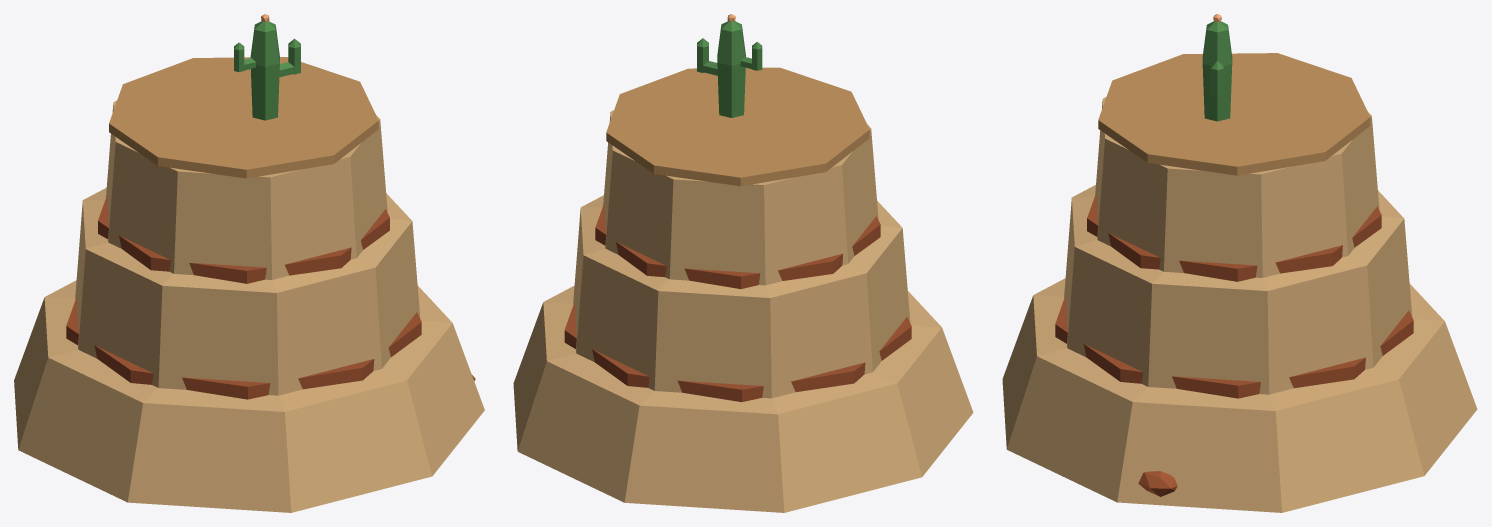
The model's file is butte.glb.
The picture shows the model from 3 angles, left to right: view 1: azimuth 30°, elevation 25°; view 2: azimuth 150°, elevation 25°; view 3: azimuth 270°, elevation 25°; orthographic projection. The views are drawn at different scales.
Parts seen in each view (by area): view 1: wildwest-butte; view 2: wildwest-butte; view 3: wildwest-butte.
Boxes of the visible parts, bbox=[...] form: wildwest-butte: bbox=[14, 14, 484, 512]; wildwest-butte: bbox=[513, 14, 973, 512]; wildwest-butte: bbox=[1002, 14, 1477, 512].
Size of the model in its own units: 2.95 by 2.77 by 2.92.
